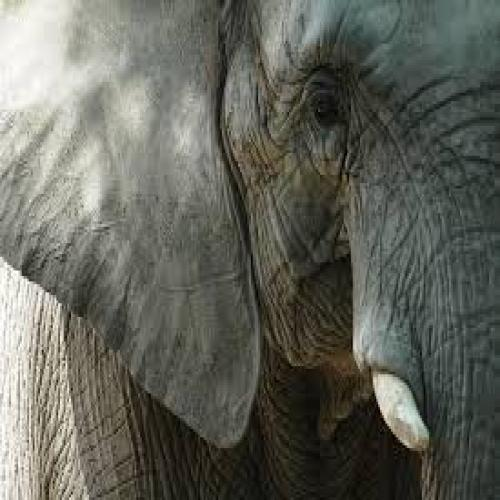asian_elephant-endangered: (9, 11, 489, 479)
